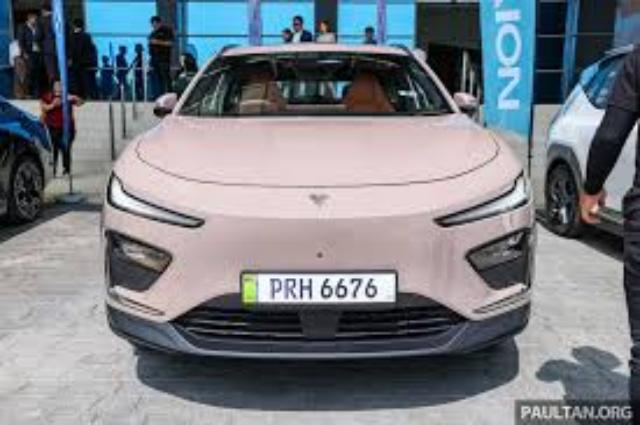License_Plate: (239, 269, 399, 308)
car: (102, 41, 537, 362)
